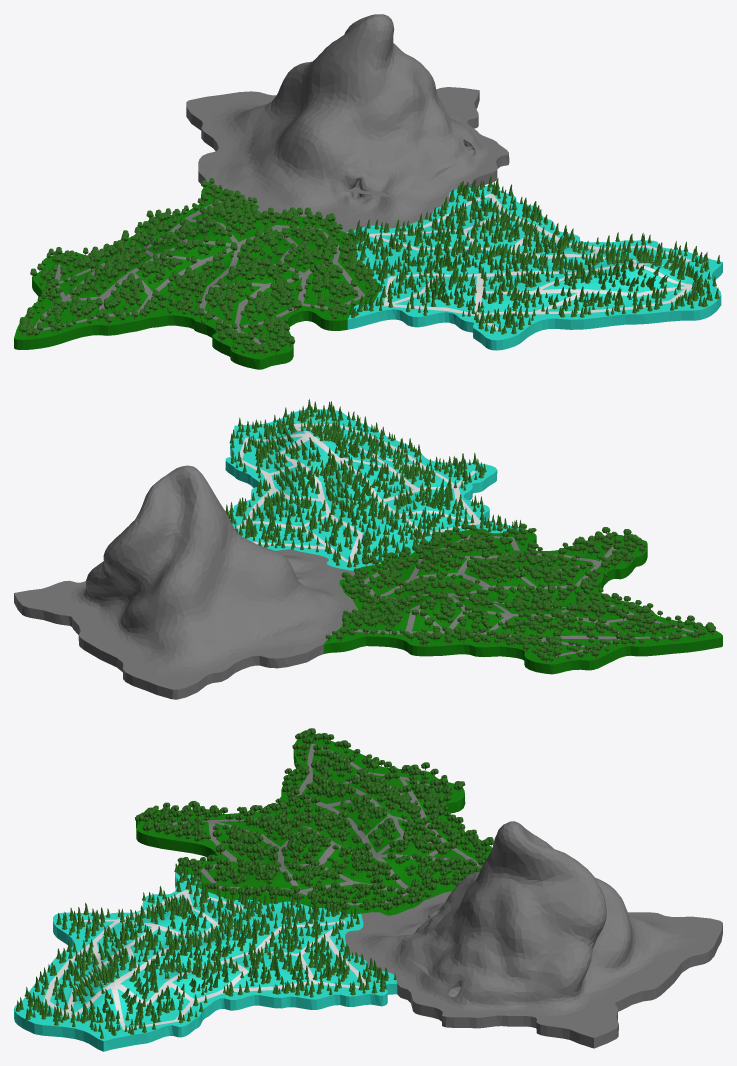
File: WorldMap.fbx
3 views of the same model, one above another, from view 1: azimuth 30°, elevation 25°; view 2: azimuth 150°, elevation 25°; view 3: azimuth 270°, elevation 25° (orthographic). The views are drawn at different scales.
Visible parts, largest first — view 1: Dwarf_Mountain_Top_First, Elf_MythicalForest_First, Human_Plains_Second, Dwarf_Mountain_Base_First, Human_Plains_First, Dwarf_Mountain_Top_Second, Elf_MythicalForest_Second, Dwarf_Mountain_Base_Second, Human_Plains_Middle, Elf_MythicalForest_Middle; view 2: Human_Plains_First, Dwarf_Mountain_Top_First, Dwarf_Mountain_Top_Second, Dwarf_Mountain_Base_First, Elf_MythicalForest_Second, Elf_MythicalForest_First, Dwarf_Mountain_Base_Second, Human_Plains_Second, Dwarf_Mountain_Top_Middle, Elf_MythicalForest_Middle, Human_Plains_Middle; view 3: Dwarf_Mountain_Top_Second, Elf_MythicalForest_Second, Dwarf_Mountain_Base_Second, Elf_MythicalForest_First, Human_Plains_Second, Human_Plains_First, Dwarf_Mountain_Base_First, Dwarf_Mountain_Top_First, Human_Plains_Middle, Elf_MythicalForest_Middle.
Part boxes in pixels (<box>): Dwarf_Mountain_Top_First: <box>241,19,423,197</box>; Elf_MythicalForest_First: <box>347,257,721,350</box>; Human_Plains_Second: <box>166,214,380,369</box>; Dwarf_Mountain_Base_First: <box>186,101,449,232</box>; Human_Plains_First: <box>14,182,262,349</box>; Dwarf_Mountain_Top_Second: <box>308,14,476,183</box>; Elf_MythicalForest_Second: <box>346,185,722,281</box>; Dwarf_Mountain_Base_Second: <box>188,87,509,200</box>; Human_Plains_Middle: <box>200,229,272,263</box>; Elf_MythicalForest_Middle: <box>603,263,668,283</box>; Human_Plains_First: <box>323,595,722,674</box>; Dwarf_Mountain_Top_First: <box>170,467,319,652</box>; Dwarf_Mountain_Top_Second: <box>86,465,195,648</box>; Dwarf_Mountain_Base_First: <box>167,549,357,699</box>; Elf_MythicalForest_Second: <box>225,423,399,570</box>; Elf_MythicalForest_First: <box>266,409,525,554</box>; Dwarf_Mountain_Base_Second: <box>14,580,174,699</box>; Human_Plains_Second: <box>339,529,647,608</box>; Dwarf_Mountain_Top_Middle: <box>155,561,197,625</box>; Elf_MythicalForest_Middle: <box>284,431,335,451</box>; Human_Plains_Middle: <box>412,584,479,606</box>; Dwarf_Mountain_Top_Second: <box>406,821,651,998</box>; Elf_MythicalForest_Second: <box>82,905,397,1051</box>; Dwarf_Mountain_Base_Second: <box>378,922,722,1048</box>; Elf_MythicalForest_First: <box>14,871,303,1040</box>; Human_Plains_Second: <box>136,803,442,915</box>; Human_Plains_First: <box>280,735,491,892</box>; Dwarf_Mountain_Base_First: <box>345,891,721,968</box>; Dwarf_Mountain_Top_First: <box>391,824,653,954</box>; Human_Plains_Middle: <box>338,840,415,875</box>; Elf_MythicalForest_Middle: <box>86,973,137,1006</box>.
Bounding box in the file's own units: 1252 × 1219 × 291.
